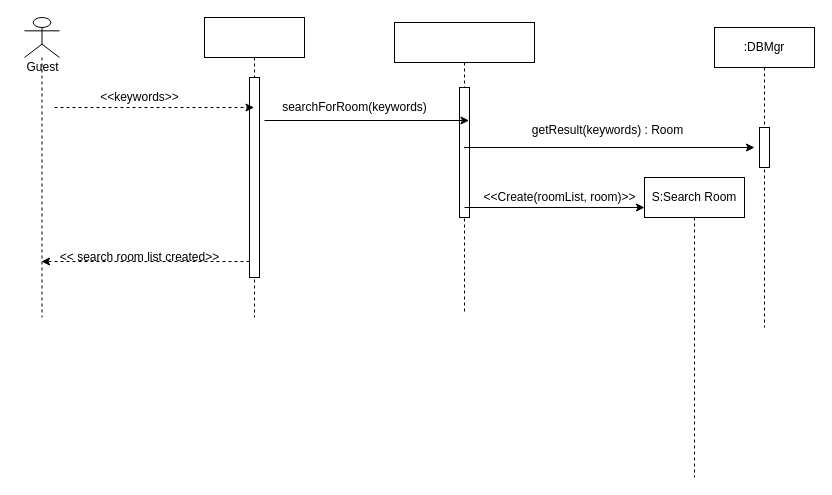
Image size: 832x495. Some labels were removed from this diagram. The box of each missing label's shape, as (x1, y1, x2, y2) in pixels:
:Search Controller: (394, 22, 534, 312)
:Search GUI: (204, 16, 304, 318)
